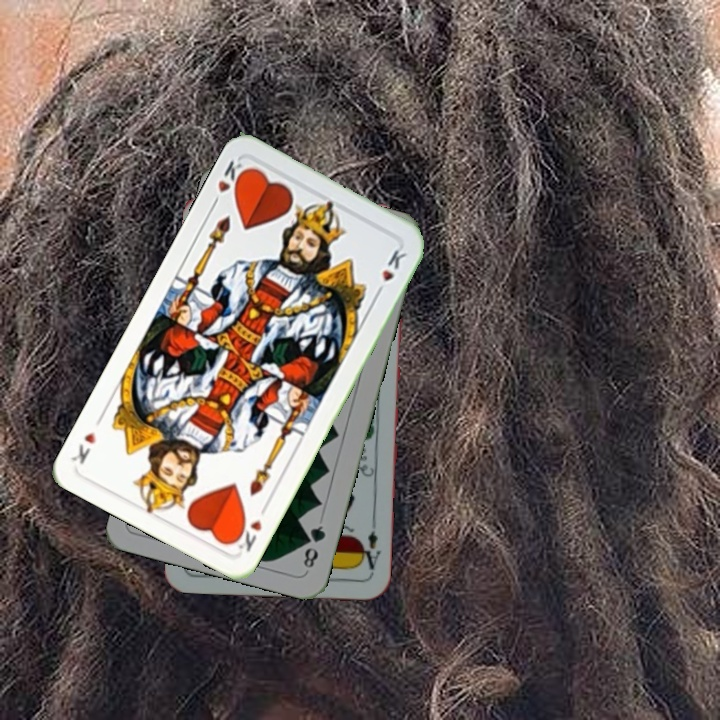EA: (356, 526, 383, 576)
G8: (299, 521, 328, 571)
HK: (229, 500, 271, 555), (213, 156, 251, 199)
